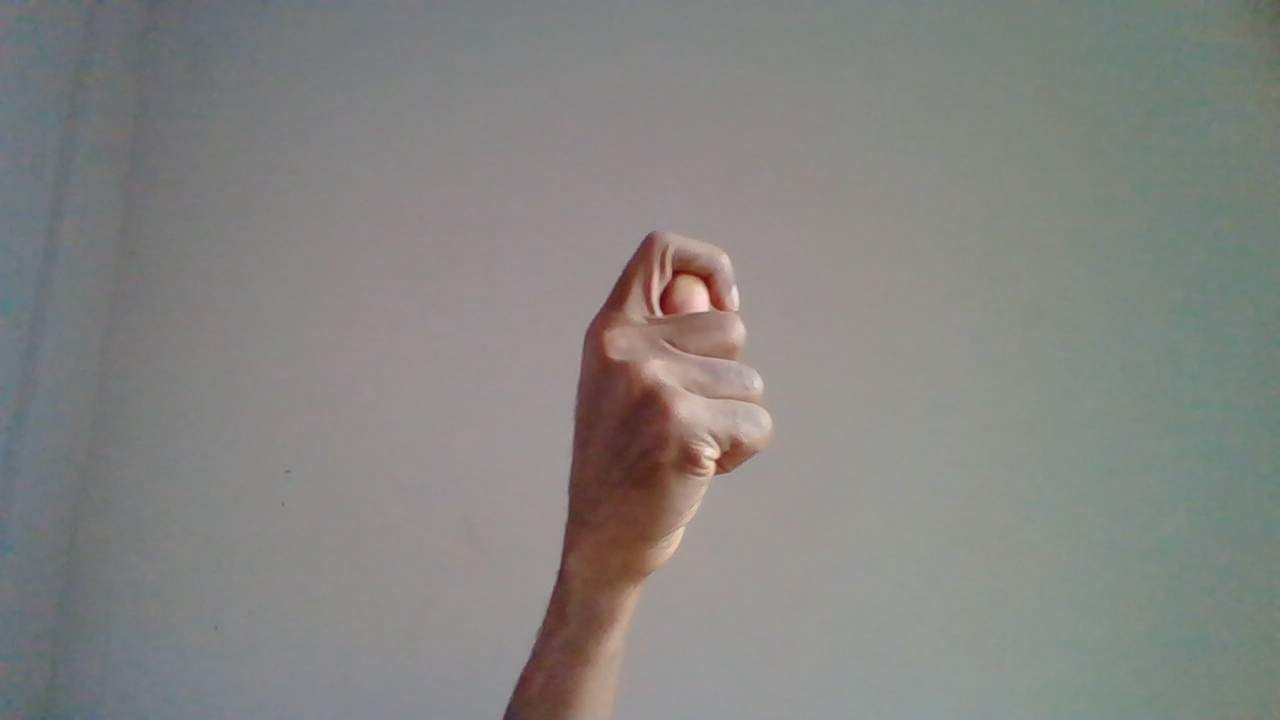che: (563, 232, 778, 689)
